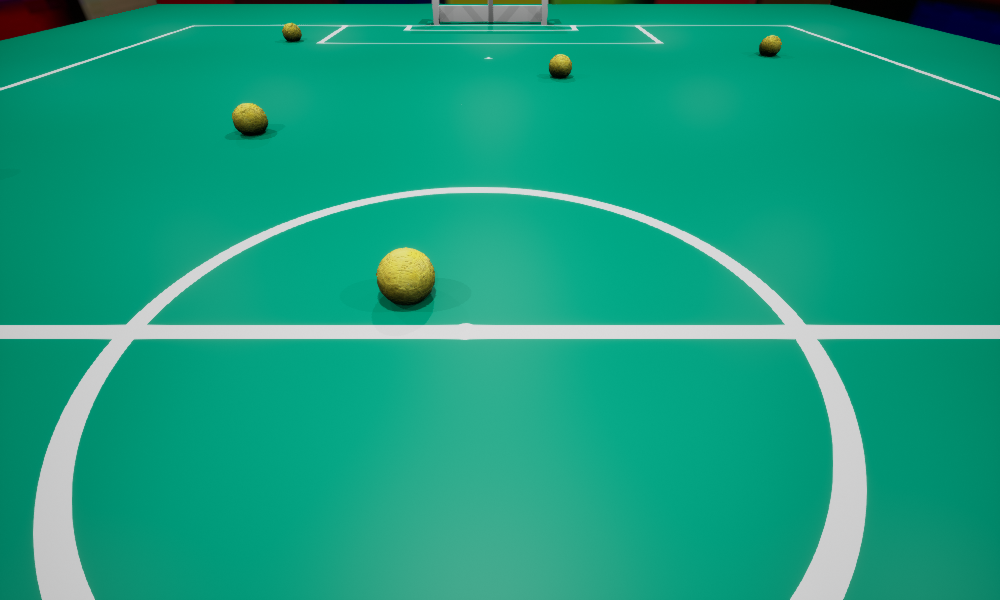b: (376, 247, 434, 304), (232, 103, 267, 135), (549, 54, 571, 77), (759, 35, 781, 55), (282, 23, 301, 41)
g: (432, 0, 547, 24)
